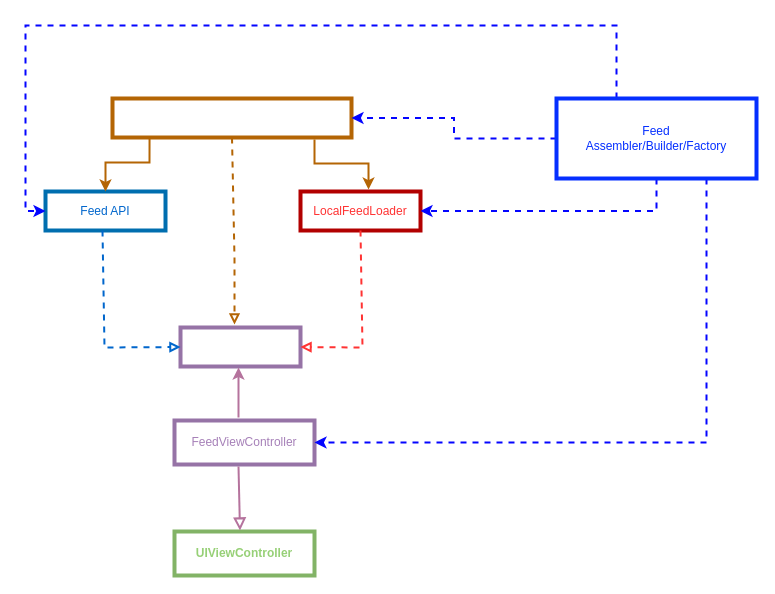
The diagram is 775 pixels wide and 594 high, and some of its shapes have lost their labels. Each missing label, with the centre of its shape:
"<Feed Feature>" goes at (240,346).
"RemoteWithLocalFallbackFeedLoader" goes at (231,117).
